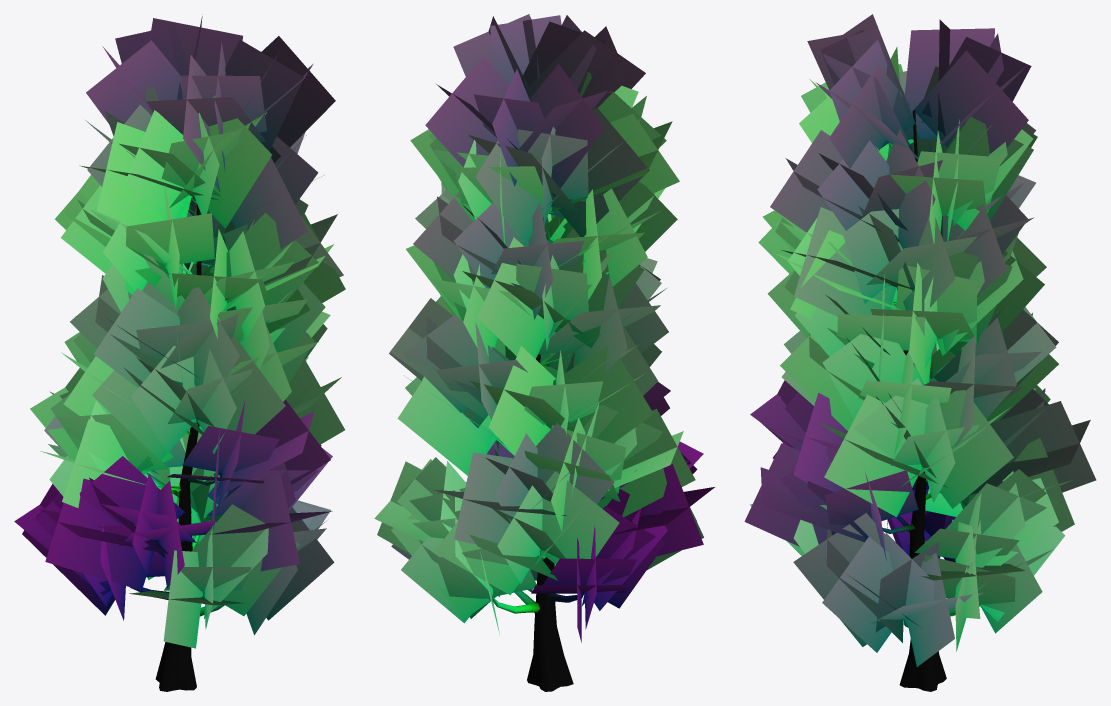
Rendered from Tree_5_1.fbx.
3 views of the same model, side by side, from view 1: azimuth 30°, elevation 25°; view 2: azimuth 150°, elevation 25°; view 3: azimuth 270°, elevation 25° (orthographic). The views are drawn at different scales.
Parts seen in each view (by area): view 1: _1; view 2: _1; view 3: _1.
Boxes of the visible parts, x1,y1,x2,y2 form: _1: (14, 14, 345, 691); _1: (374, 14, 714, 691); _1: (744, 14, 1096, 691).
Bounding box in the file's own units: 1007 × 2143 × 1028.
